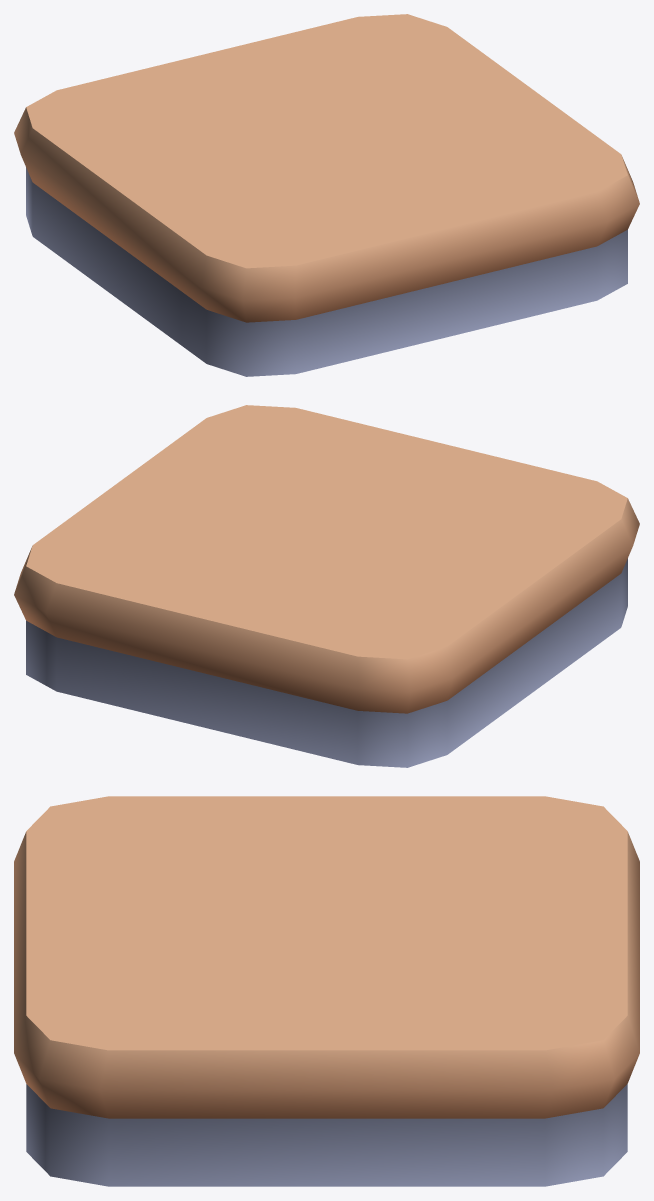
File: block-grass-low-large.glb
3 views of the same model, one above another, from view 1: azimuth 30°, elevation 25°; view 2: azimuth 150°, elevation 25°; view 3: azimuth 270°, elevation 25° (orthographic). The views are drawn at different scales.
Visible parts, largest first — view 1: block-grass-low-large; view 2: block-grass-low-large; view 3: block-grass-low-large.
Part boxes in pixels (left/top/right/bottom): block-grass-low-large: left=14, top=14, right=639, bottom=376; block-grass-low-large: left=14, top=405, right=639, bottom=767; block-grass-low-large: left=14, top=796, right=639, bottom=1186.
Size of the model in its own units: 2.08 by 0.5 by 2.08.
